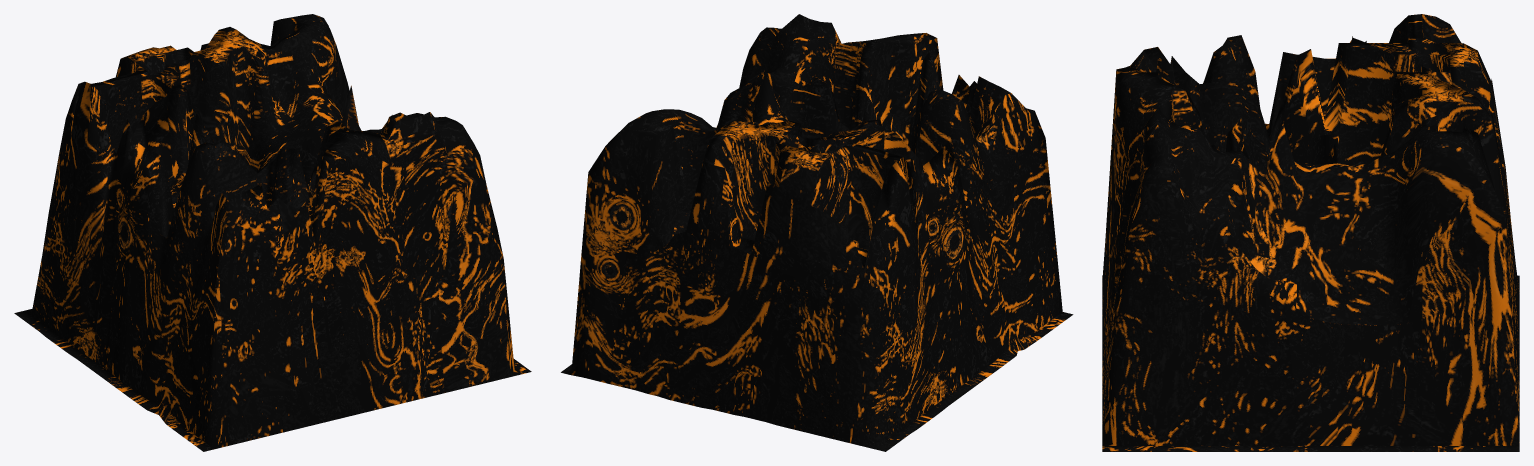
File: Cube wall.fbx
3 views of the same model, side by side, from view 1: azimuth 30°, elevation 25°; view 2: azimuth 150°, elevation 25°; view 3: azimuth 270°, elevation 25° (orthographic). The views are drawn at different scales.
Visible parts, largest first — view 1: cube_wall; view 2: cube_wall; view 3: cube_wall.
Part boxes in pixels (x1,y1,x2,y2): cube_wall: (14,14,531,451); cube_wall: (561,14,1073,451); cube_wall: (1102,14,1519,451).
Bounding box in the file's own units: 400 × 308 × 400.
1 material, 1 textured.
